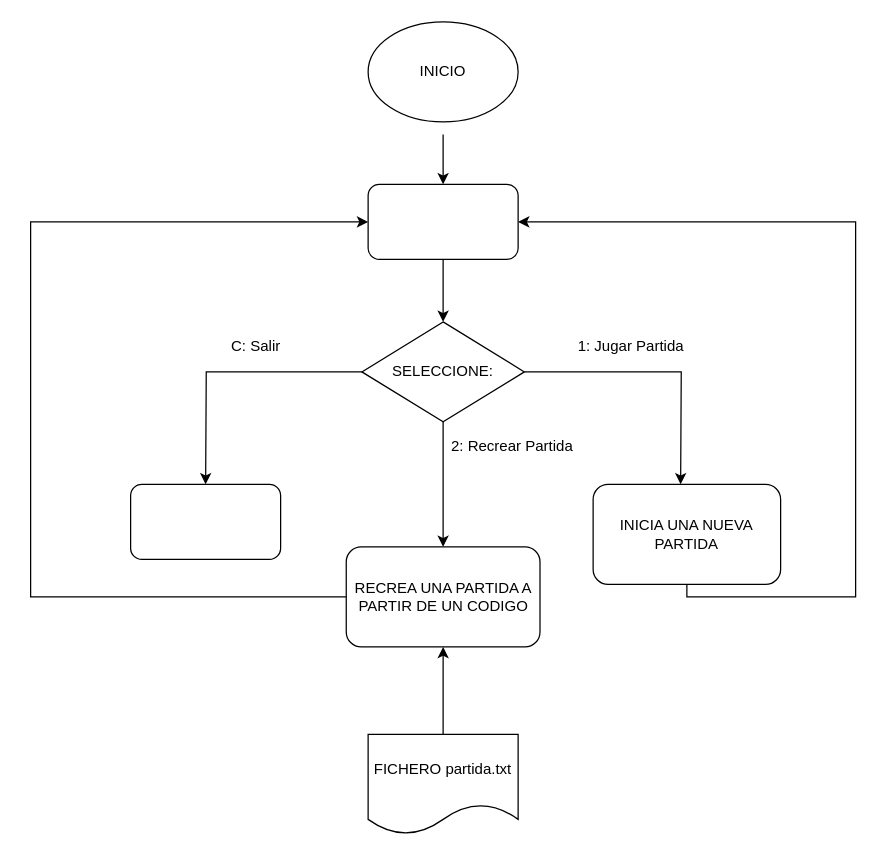
The diagram is 888 pixels wide and 856 high, and some of its shapes have lost their labels. Each missing label, with the box of its shape:
FINAL: (129, 483, 281, 559)
MENÚ PRINCIPAL: (367, 183, 518, 259)
